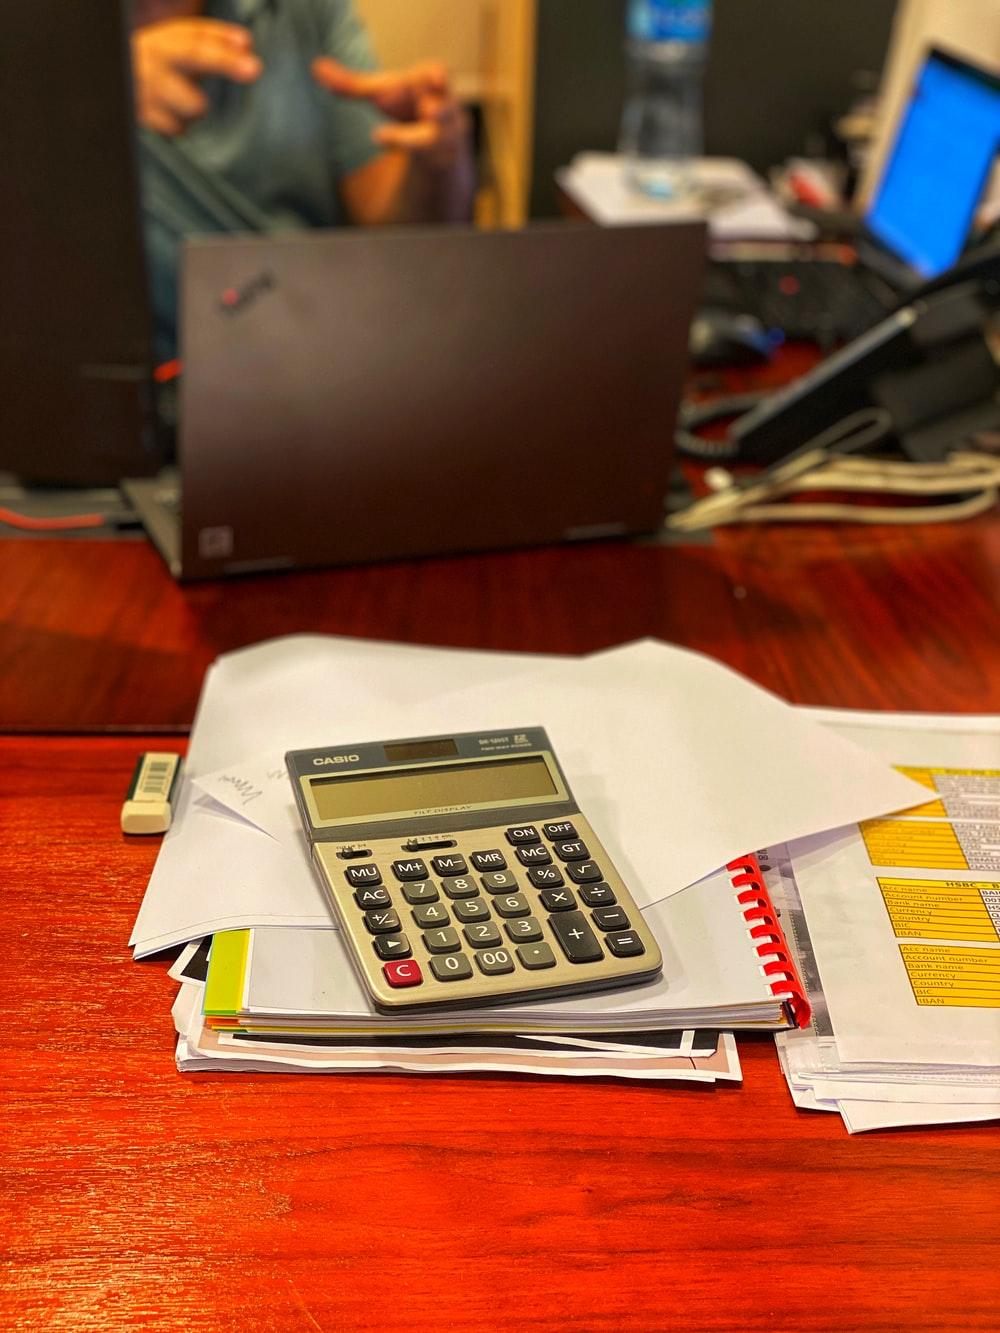Calculator: (285, 718, 671, 1016)
